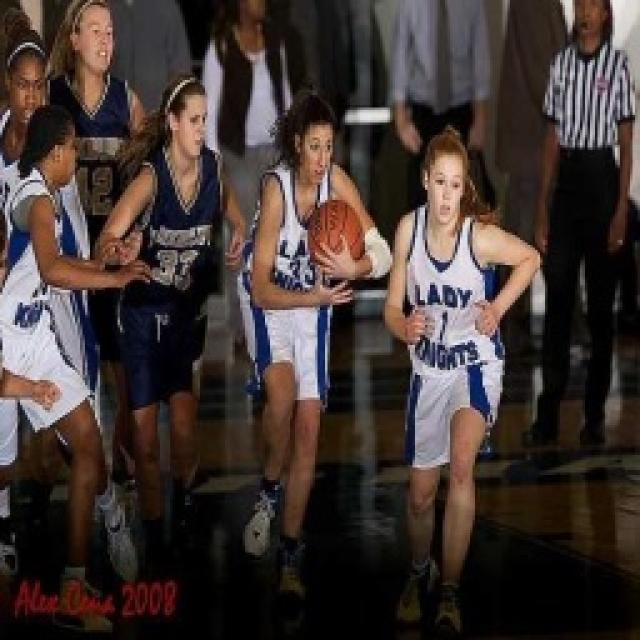rim: (308, 205, 360, 266)
